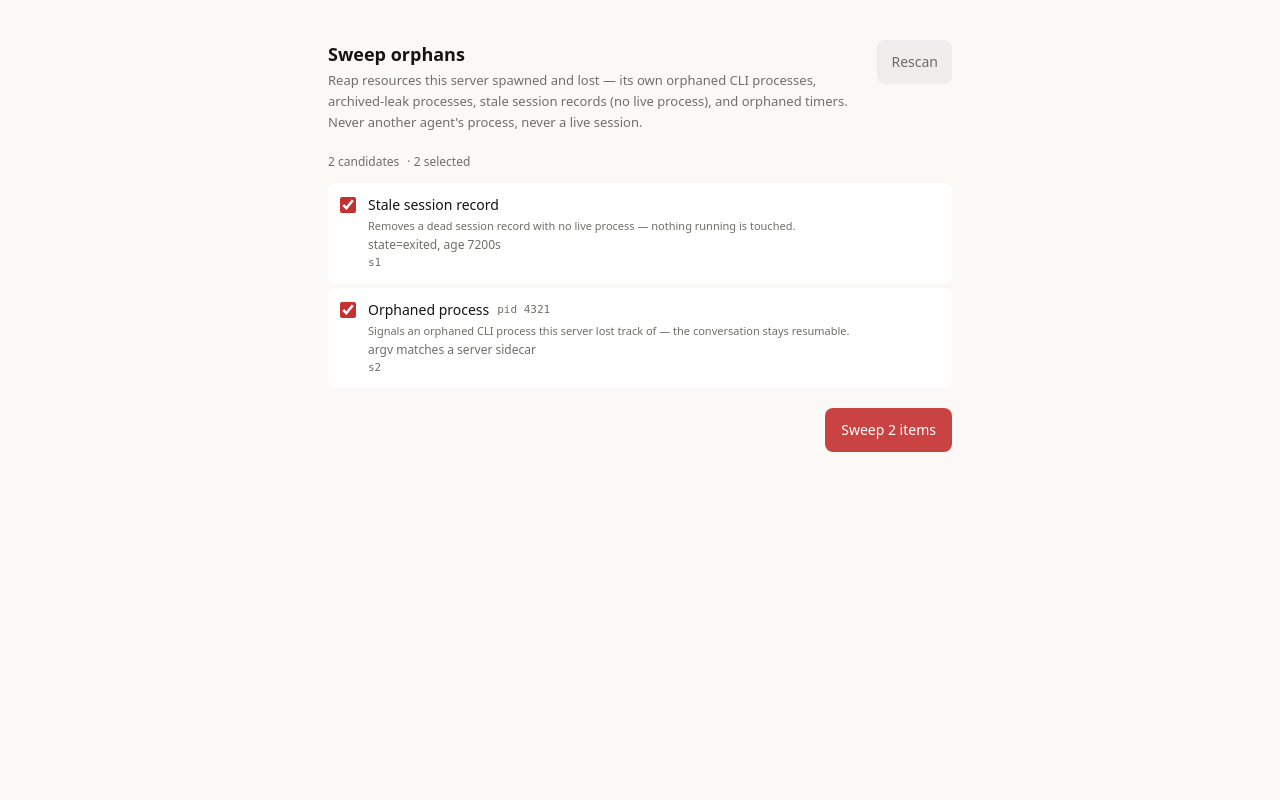
SweepPage per-candidate selection › a partial selection sends ONLY the selected ids to the server, and the receipt lists only them
Expected: the text "2 candidates" is shown, [328, 153, 399, 171]
Click the checkbox named "Orphaned process (pid 4321)" at (348, 310), box [340, 302, 356, 318]
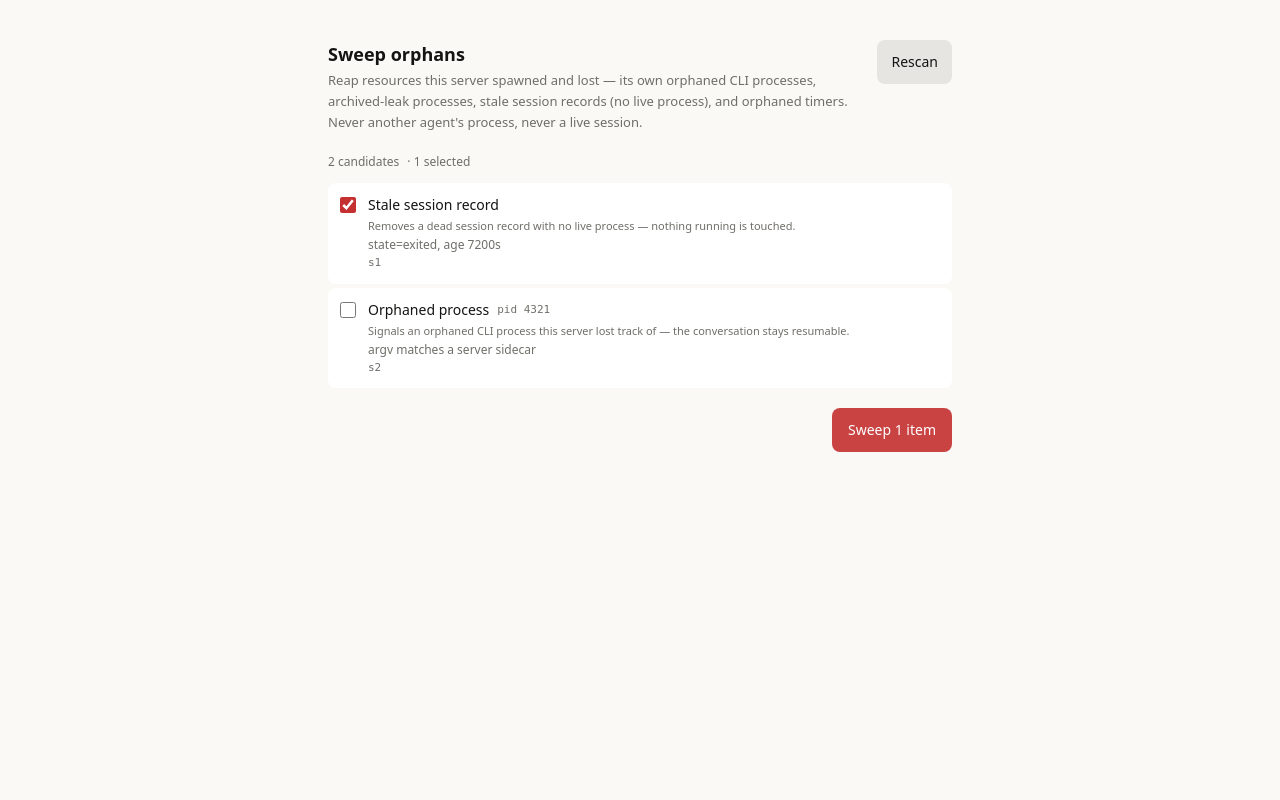
Click the button "Sweep 1 item" at (892, 430), box [832, 408, 952, 452]
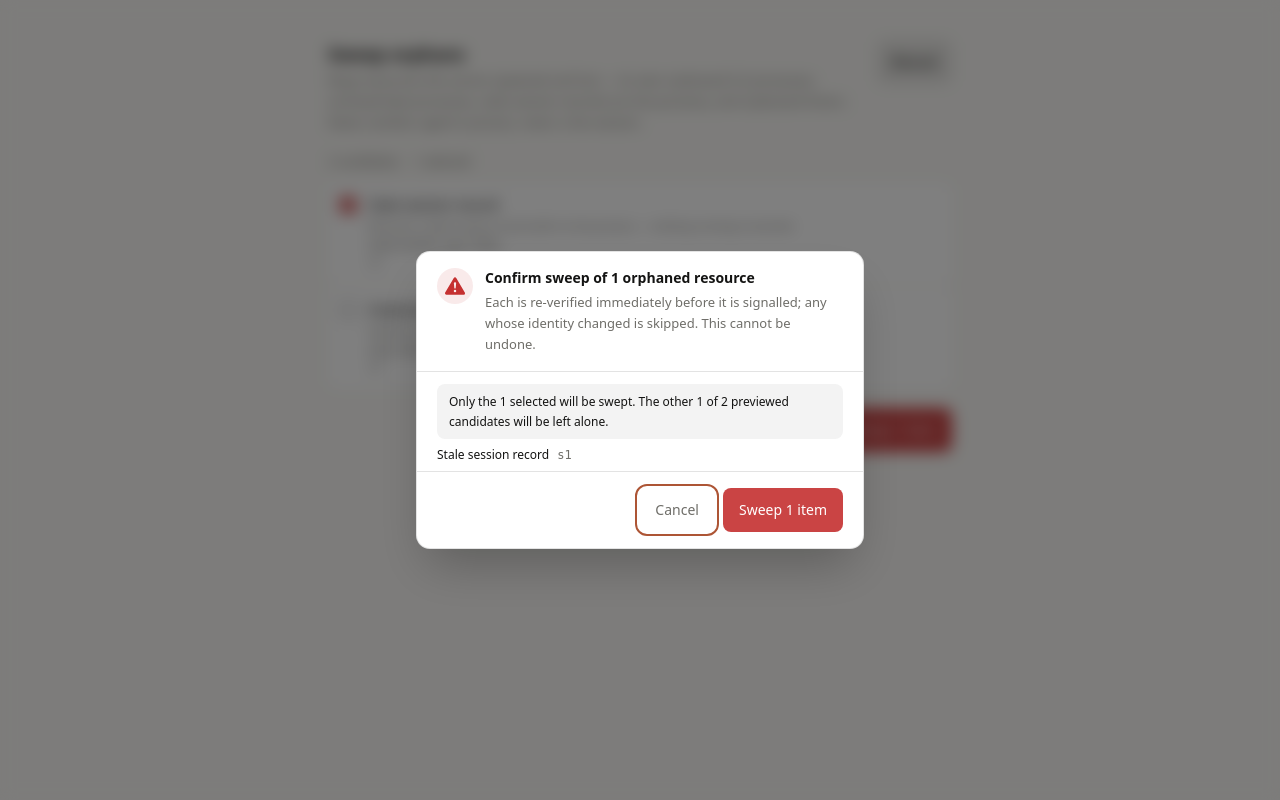
Click the button "Sweep 1 item" at (783, 510), box [723, 488, 843, 532]
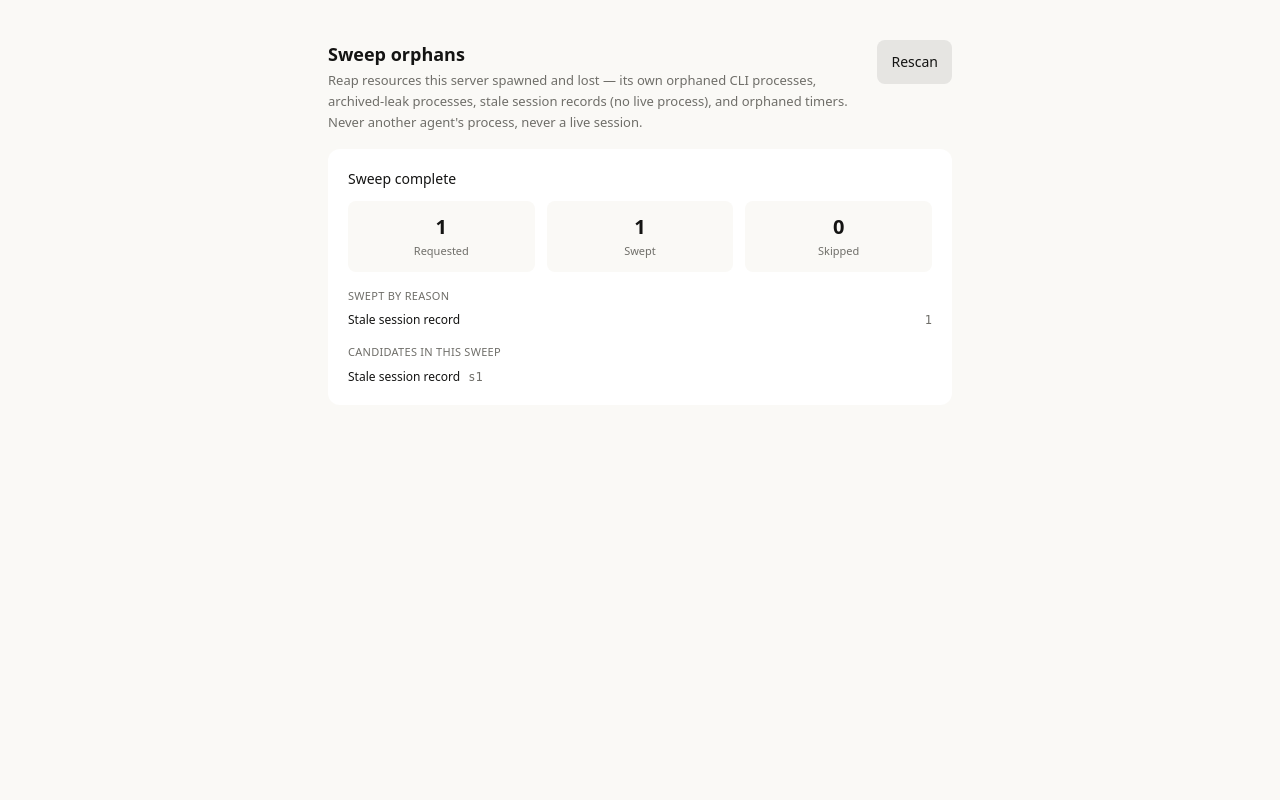
Expected: the text "s1" is shown, [468, 369, 483, 385]
Expected: the text "Sweep complete" is shown, [348, 169, 456, 188]
Expected: the text "pid 4321" is gone
